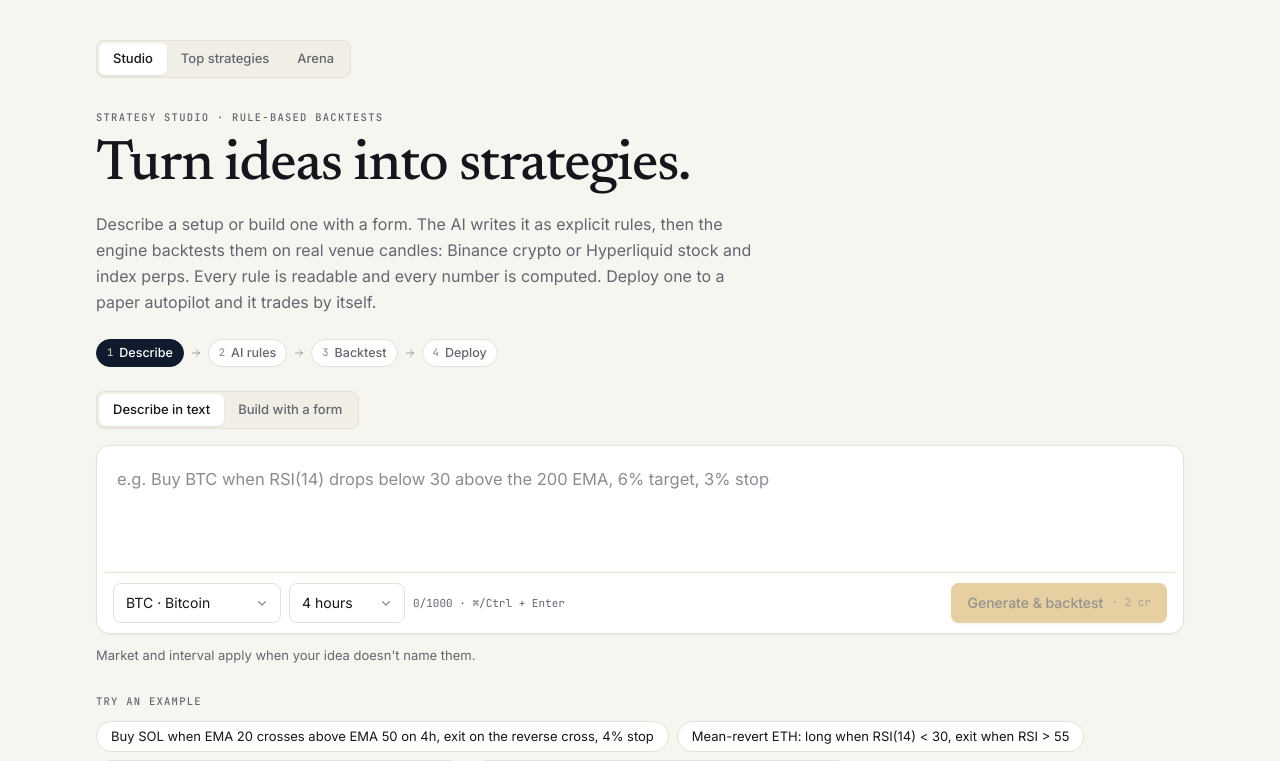
Test: blocks invalid Fast period = 0 before generation
Step 1. Click the button "Build with a form" → (290, 410), box [224,394,356,426]
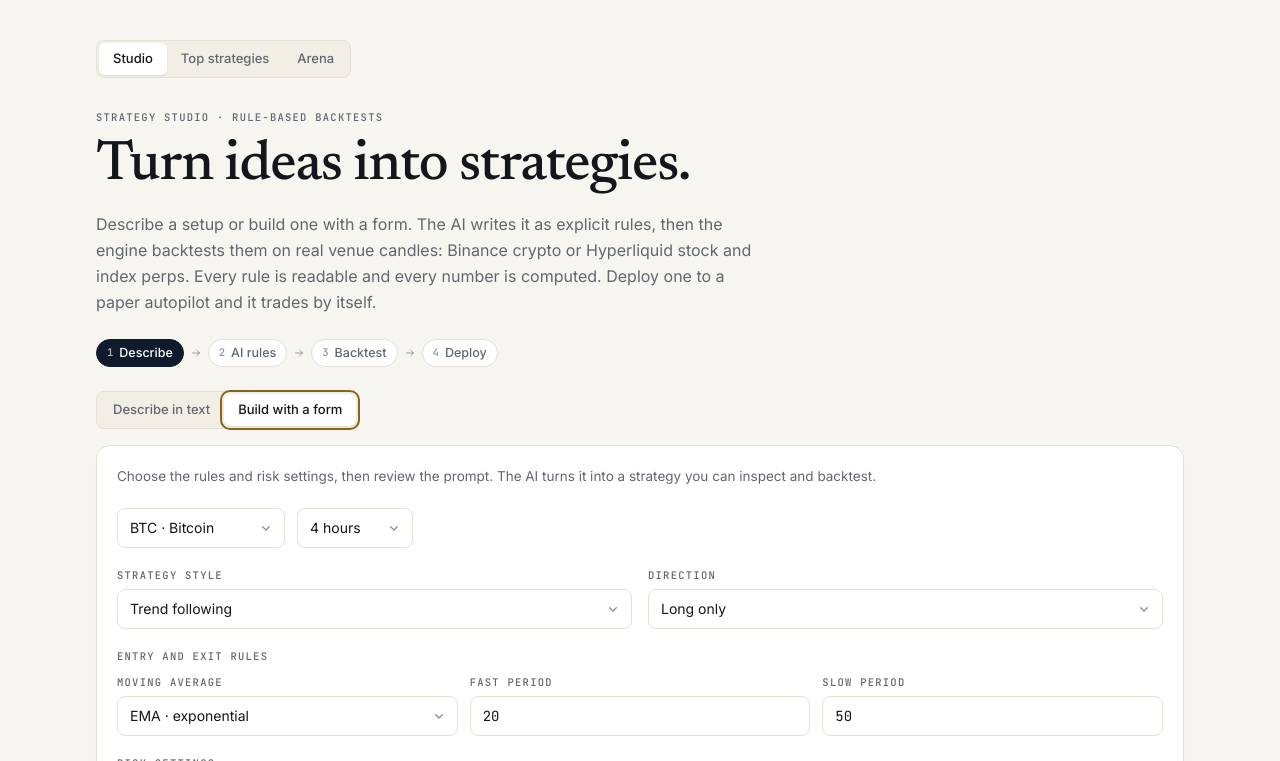
Step 2. Replace the text in the number field labelled "Fast period" with "0" → (640, 716), box [470,696,810,736]
(page scrolled)
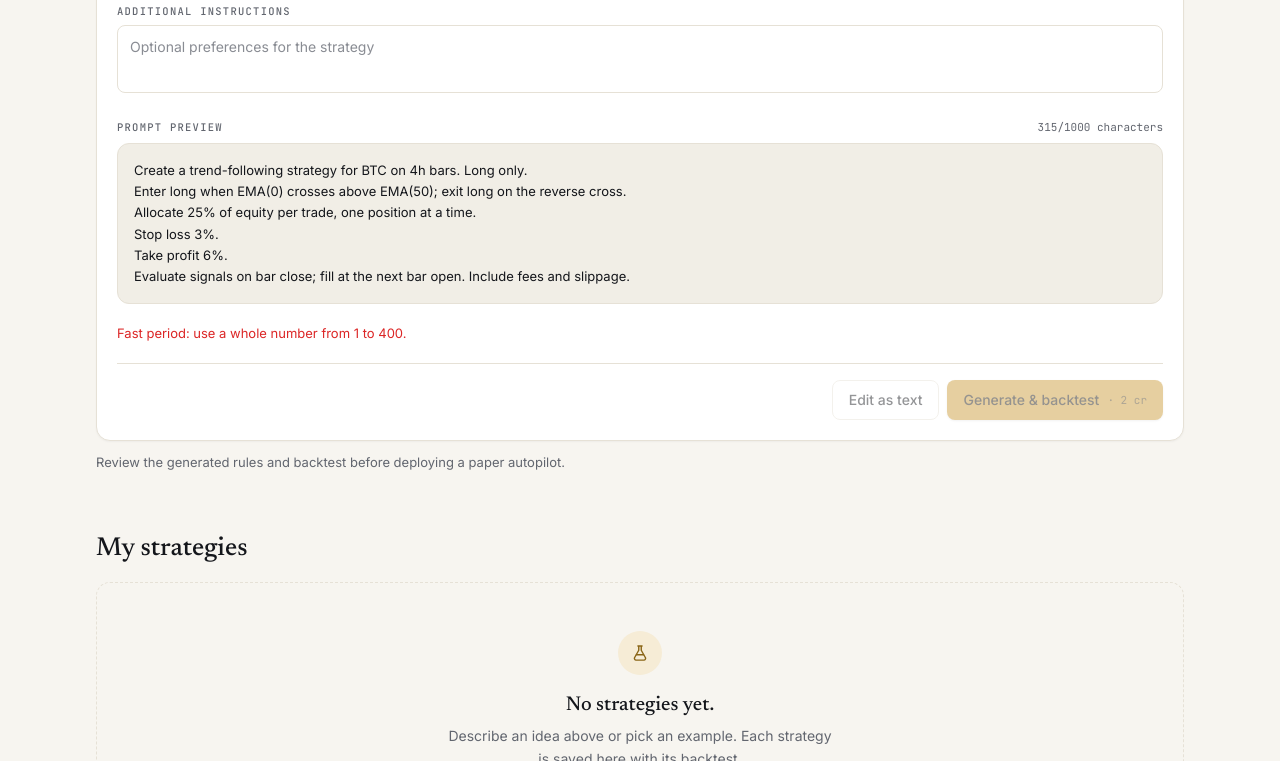
Expected: the message shows "whole number from 1 to 400", [117,325,406,341]
Expected: the button "Generate & backtest · 2 cr" is disabled, [948,380,1163,420]
Expected: the button "Edit as text" is disabled, [832,380,940,420]
